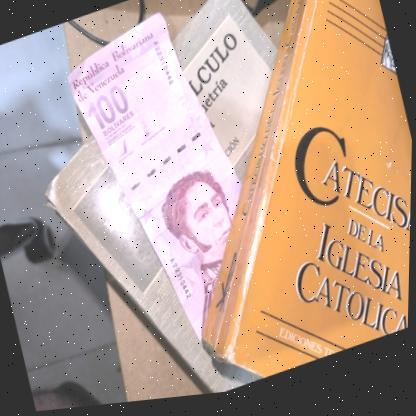one_hundred-front-vef: (54, 0, 281, 375)
